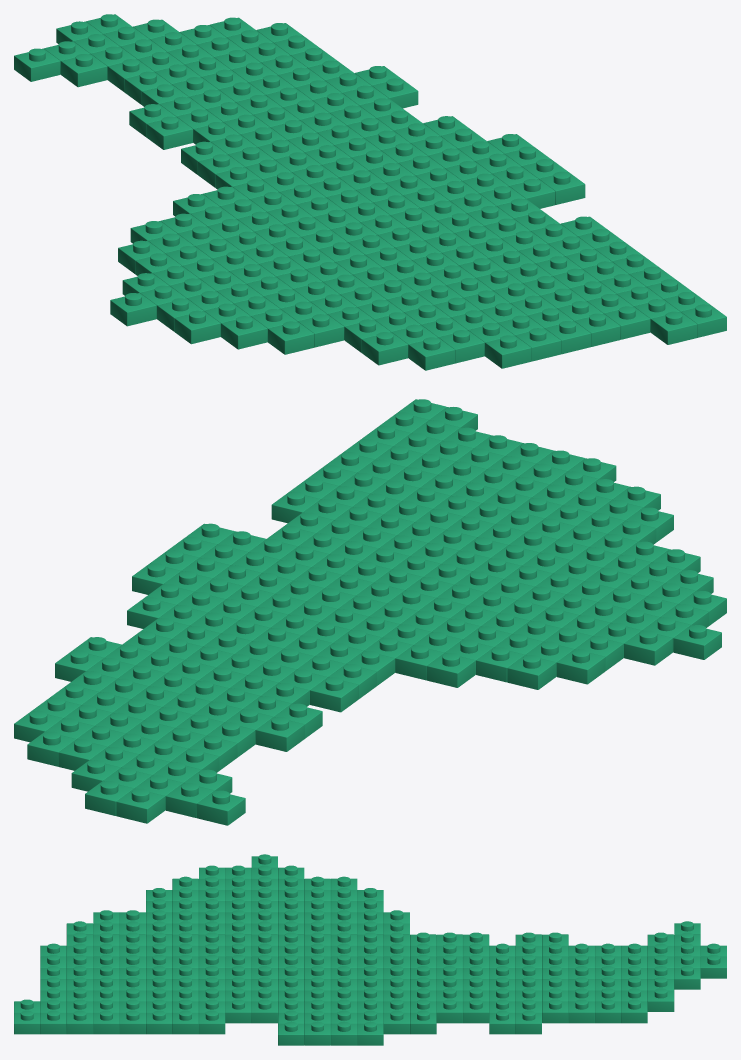
The model's file is Argentina.fbx.
3 renders of one model, top to bottom at view 1: azimuth 30°, elevation 25°; view 2: azimuth 150°, elevation 25°; view 3: azimuth 270°, elevation 25°, orthographic. The views are drawn at different scales.
Parts seen in each view (by area): view 1: Cylinder_132; view 2: Cylinder_132; view 3: Cylinder_132.
Part boxes in pixels (<box>): Cylinder_132: <box>14,14,726,370</box>; Cylinder_132: <box>14,399,726,825</box>; Cylinder_132: <box>14,854,726,1045</box>.
Size of the model in its own units: 1600 by 65.03 by 2700.
